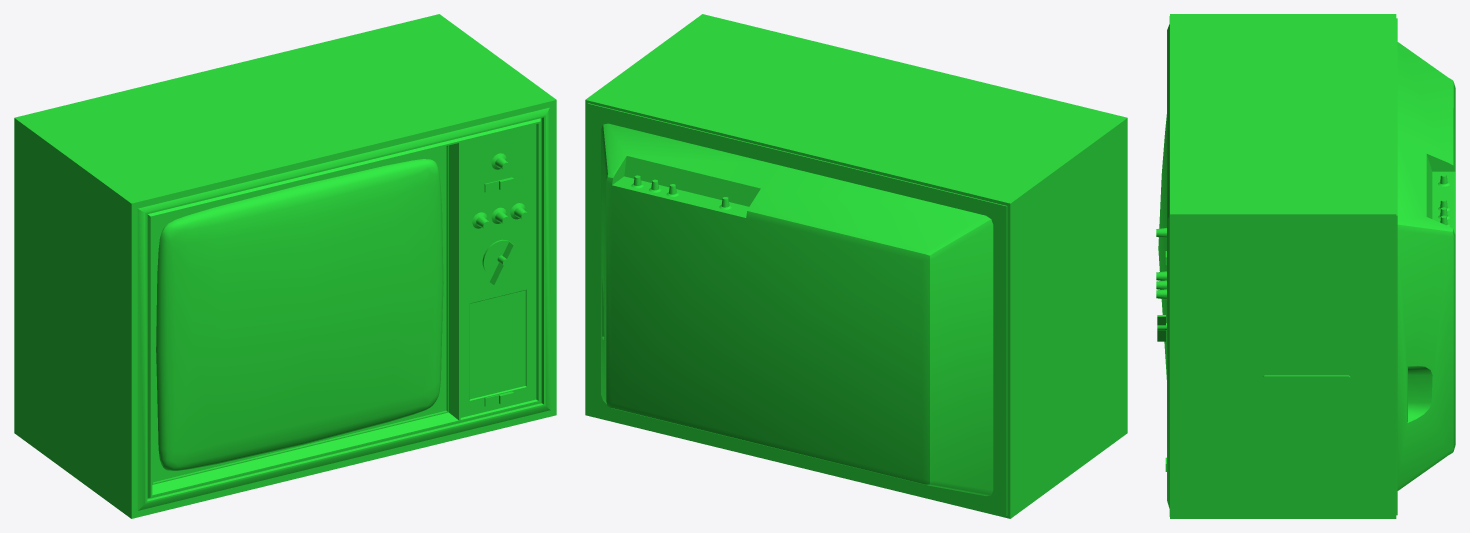
The model's file is TV_Chayka206.fbx.
The picture shows the model from 3 angles, left to right: view 1: azimuth 30°, elevation 25°; view 2: azimuth 150°, elevation 25°; view 3: azimuth 270°, elevation 25°; orthographic projection. The views are drawn at different scales.
Parts seen in each view (by area): view 1: TV; view 2: TV; view 3: TV.
Part boxes in pixels (left/top/right/bottom): TV: left=14, top=14, right=556, bottom=518; TV: left=585, top=14, right=1127, bottom=518; TV: left=1156, top=14, right=1455, bottom=518.
Size of the model in its own units: 70.95 by 50.02 by 44.58.
